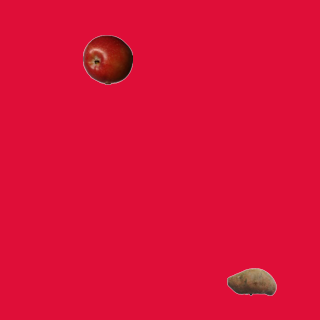Apple Braeburn: (82, 34, 132, 84)
Potato Sweet: (226, 256, 276, 306)
